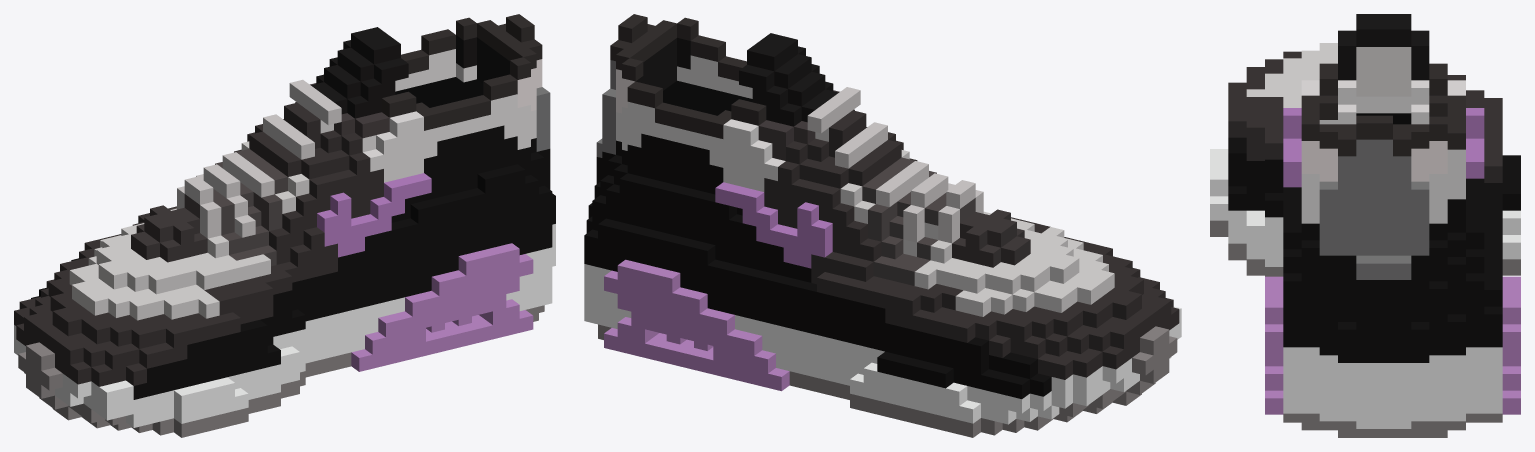
Rendered from Lavender Star.fbx.
3 views of the same model, side by side, from view 1: azimuth 30°, elevation 25°; view 2: azimuth 150°, elevation 25°; view 3: azimuth 270°, elevation 25° (orthographic). The views are drawn at different scales.
Visible parts, largest first — view 1: Untitled; view 2: Untitled; view 3: Untitled.
Boxes of the visible parts, x1,y1,x2,y2 form: Untitled: (14,14,555,437); Untitled: (584,14,1181,437); Untitled: (1210,14,1520,437).
Bounding box in the file's own units: 390 × 200 × 170.
